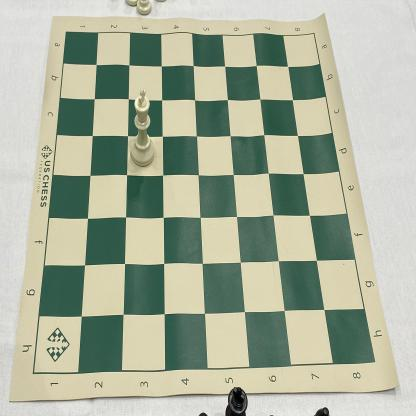white-king: (129, 87, 157, 170)
